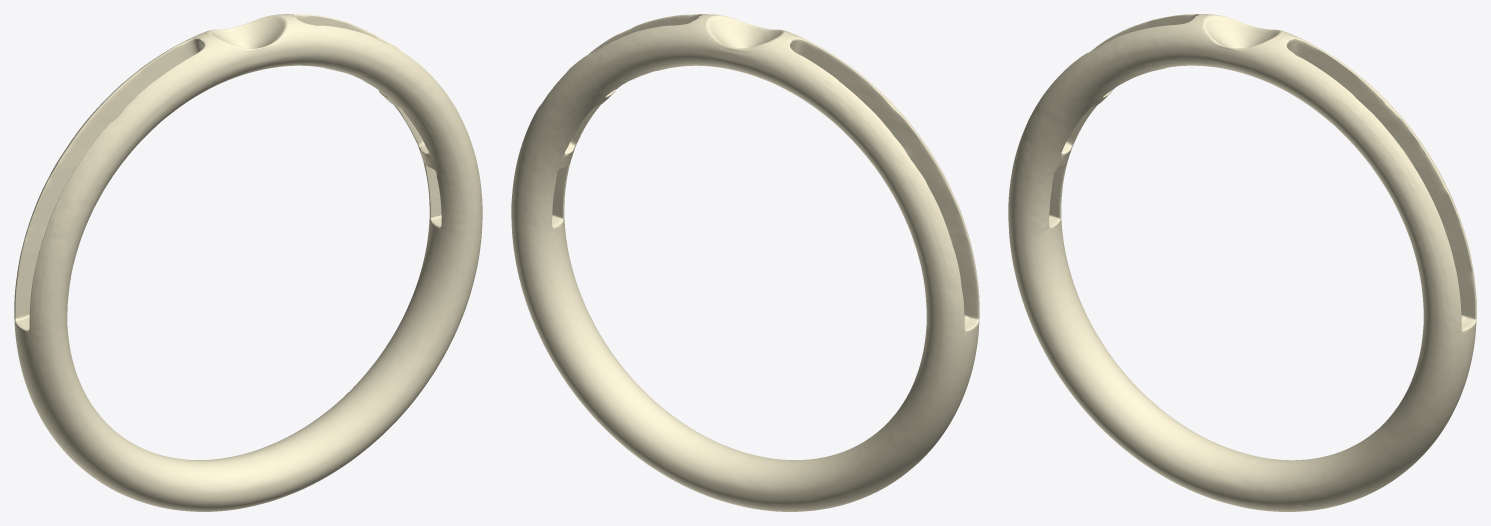
The model's file is Shank_Straight_Channel_A_Single Halo_Band.glb.
3 renders of one model, left to right at view 1: azimuth 30°, elevation 25°; view 2: azimuth 150°, elevation 25°; view 3: azimuth 330°, elevation 25°, orthographic.
Bounding box in the file's own units: 0.0214 × 0.0212 × 0.00244.
